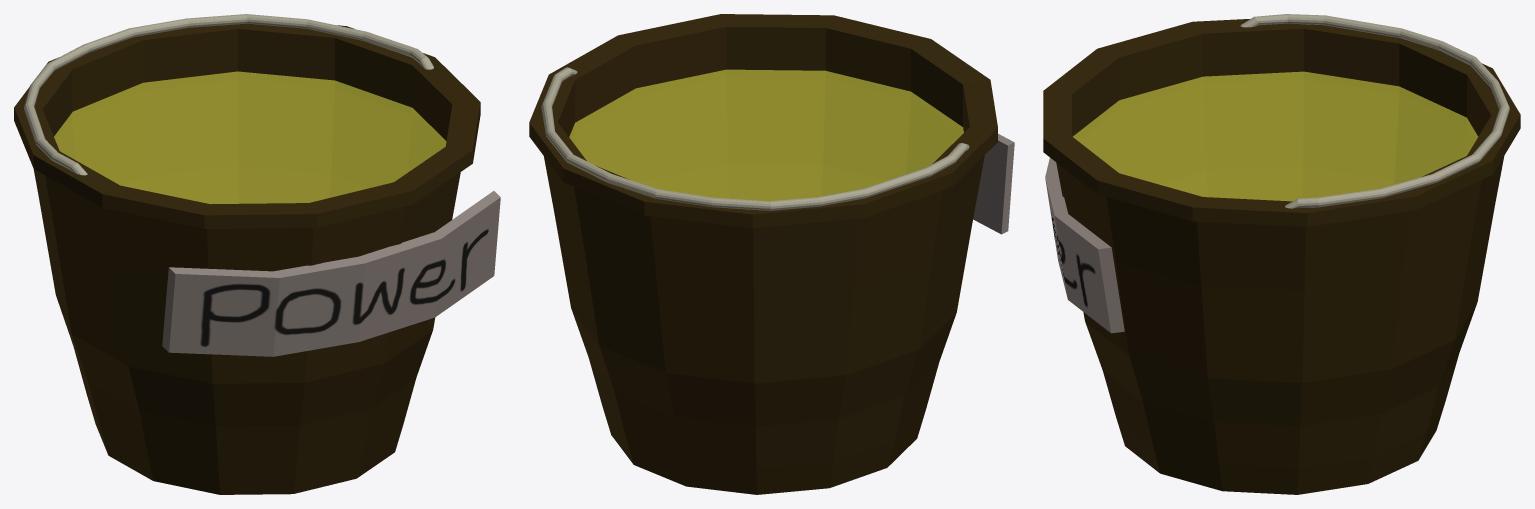
The model's file is bucketOfPower.glb.
3 renders of one model, left to right at view 1: azimuth 30°, elevation 25°; view 2: azimuth 150°, elevation 25°; view 3: azimuth 270°, elevation 25°, orthographic.
Parts seen in each view (by area): view 1: bucket, bucket.001, sign, handle; view 2: bucket, bucket.001, handle, sign; view 3: bucket, bucket.001, sign, handle.
Part boxes in pixels (x1,y1,x2,y2): bucket: [14, 23, 480, 494]; bucket.001: [54, 71, 446, 203]; sign: [162, 191, 500, 356]; handle: [24, 14, 433, 175]; bucket: [529, 14, 997, 494]; bucket.001: [569, 69, 963, 201]; handle: [541, 67, 969, 210]; sign: [973, 133, 1014, 234]; bucket: [1043, 19, 1520, 494]; bucket.001: [1073, 71, 1477, 201]; sign: [1045, 158, 1124, 333]; handle: [1240, 14, 1509, 208].
Size of the model in its own units: 2.12 by 1.63 by 2.17.
Materials: 4 (1 with a texture image).
